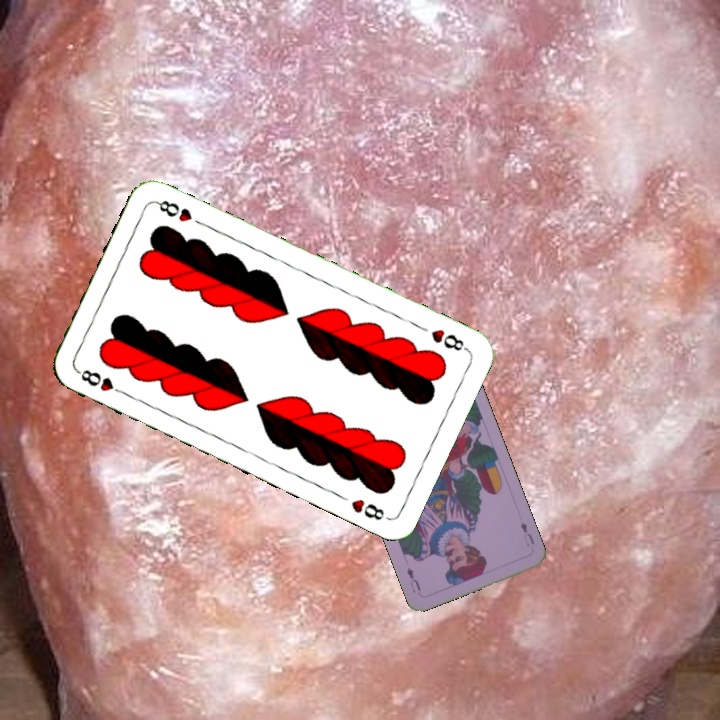EU: (516, 517, 537, 549)
H8: (73, 365, 129, 398), (427, 325, 470, 354)
